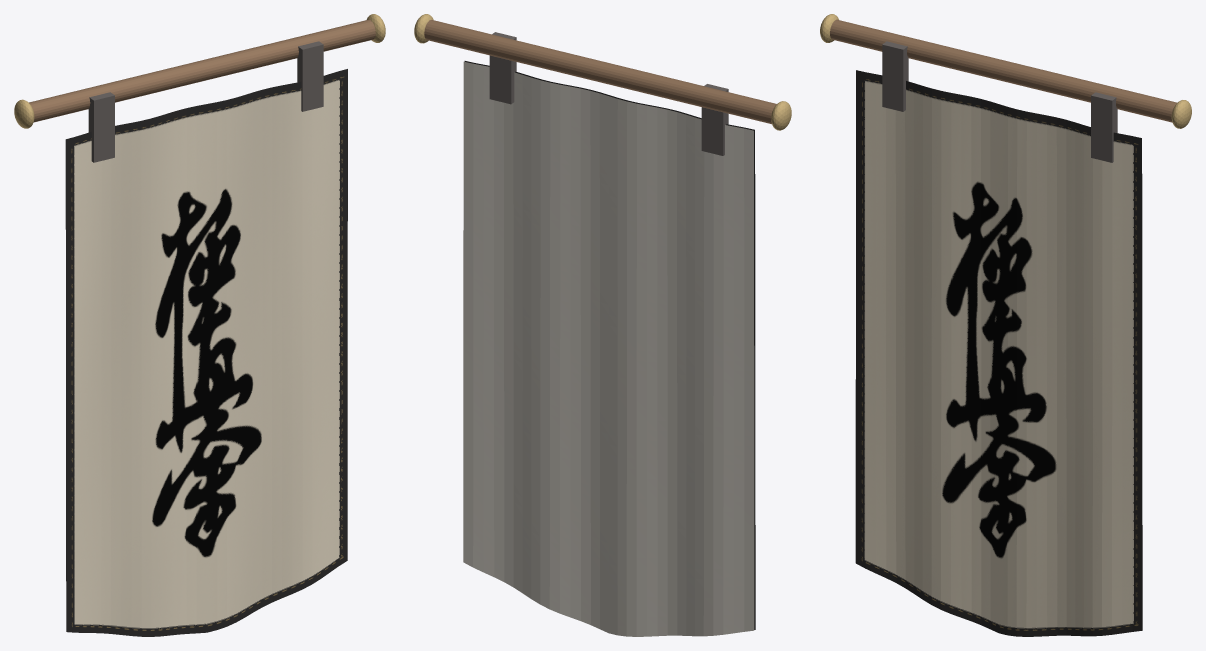
File: banner.glb
The picture shows the model from 3 angles, left to right: view 1: azimuth 30°, elevation 25°; view 2: azimuth 150°, elevation 25°; view 3: azimuth 330°, elevation 25°; orthographic projection.
Parts seen in each view (by area): view 1: Cloth front - original Kyokushin logo, Polished oak hanging rod, Dark leather hanging strap -1, Dark leather hanging strap 1; view 2: Canvas back, Polished oak hanging rod, Cloth front - original Kyokushin logo, Dark leather hanging strap 1, Dark leather hanging strap -1; view 3: Cloth front - original Kyokushin logo, Polished oak hanging rod, Dark leather hanging strap -1, Dark leather hanging strap 1.
Part boxes in pixels (x1,y1,x2,y2): Cloth front - original Kyokushin logo: [65, 69, 347, 636]; Polished oak hanging rod: [29, 19, 375, 122]; Dark leather hanging strap -1: [88, 92, 114, 162]; Dark leather hanging strap 1: [297, 41, 323, 111]; Canvas back: [463, 61, 754, 636]; Polished oak hanging rod: [424, 20, 776, 124]; Cloth front - original Kyokushin logo: [464, 61, 755, 629]; Dark leather hanging strap 1: [489, 32, 516, 104]; Dark leather hanging strap -1: [701, 84, 728, 155]; Cloth front - original Kyokushin logo: [855, 70, 1142, 636]; Polished oak hanging rod: [830, 19, 1176, 122]; Dark leather hanging strap -1: [882, 41, 908, 111]; Dark leather hanging strap 1: [1091, 92, 1117, 162].
Size of the model in its own units: 1.11 by 1.65 by 0.085.
Materials: 1 (1 with a texture image).
